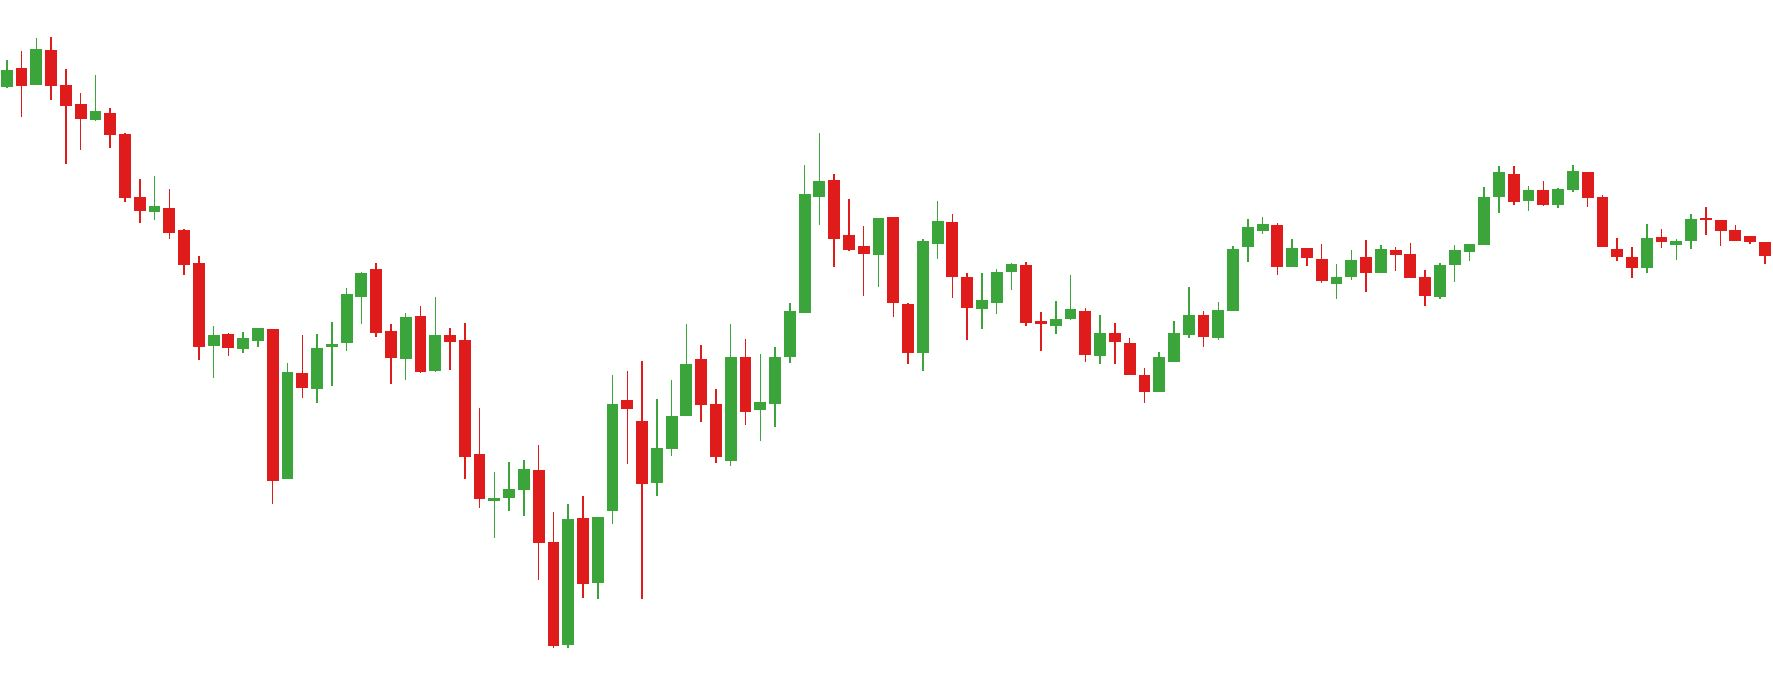buy: (1358, 250, 1448, 312)
